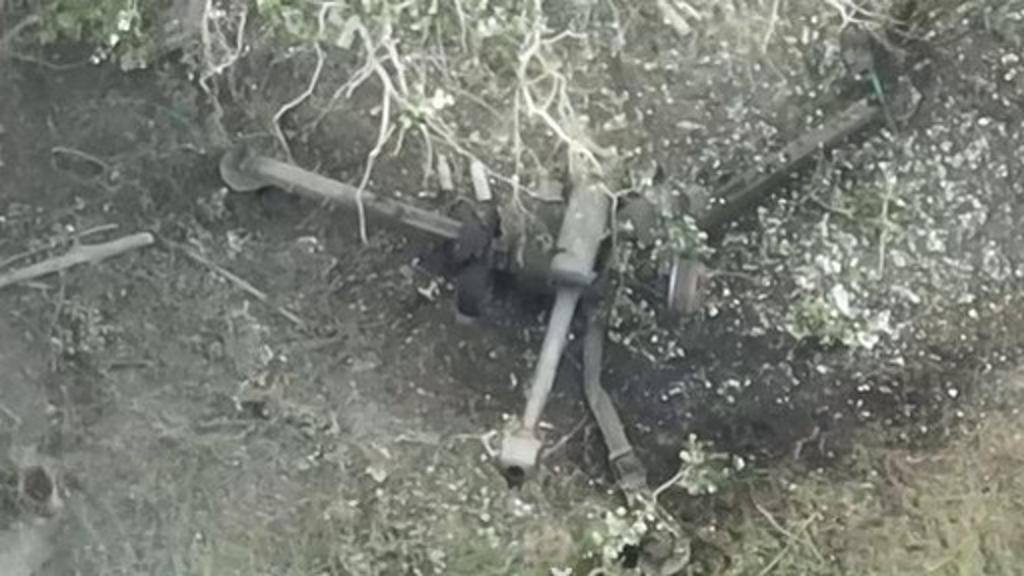ART: (202, 80, 882, 490)
